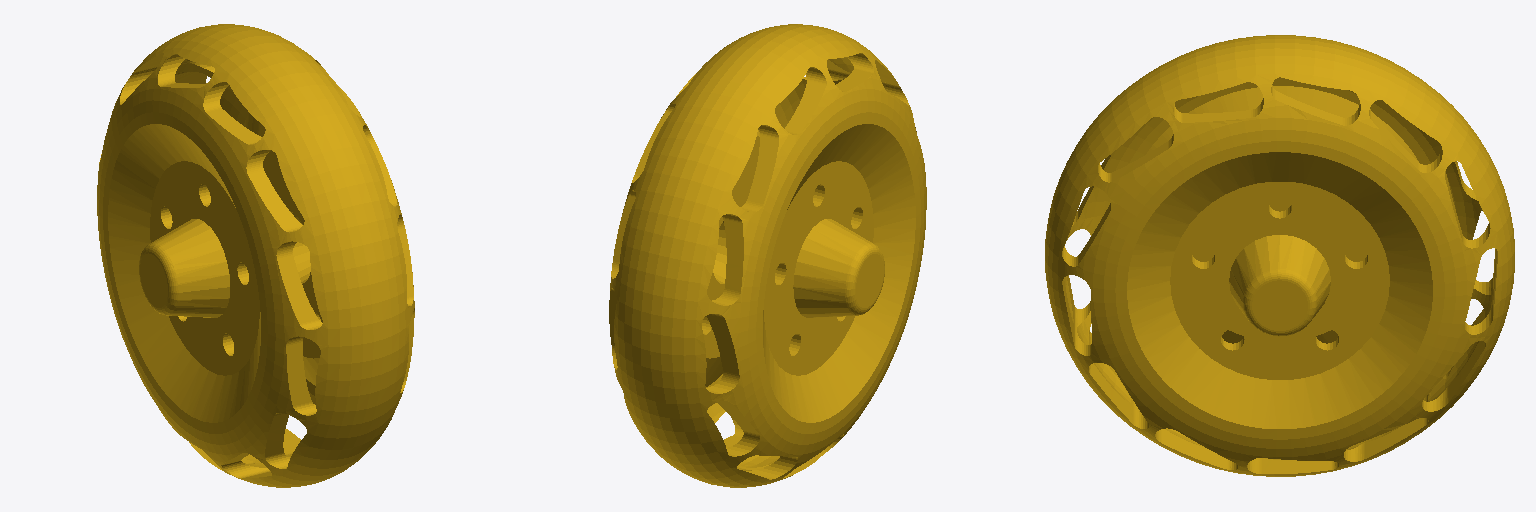
File: practise_6attempt_2.obj
3 views of the same model, side by side, from view 1: azimuth 30°, elevation 25°; view 2: azimuth 150°, elevation 25°; view 3: azimuth 270°, elevation 25° (orthographic).
Parts seen in each view (by area): view 1: Practise_6attempt_2; view 2: Practise_6attempt_2; view 3: Practise_6attempt_2.
Boxes of the visible parts, x1=… form: Practise_6attempt_2: x1=97, y1=24, x2=414, y2=487; Practise_6attempt_2: x1=609, y1=24, x2=926, y2=487; Practise_6attempt_2: x1=1045, y1=35, x2=1514, y2=476.
Size of the model in its own units: 0.1 by 0.2 by 0.1999.